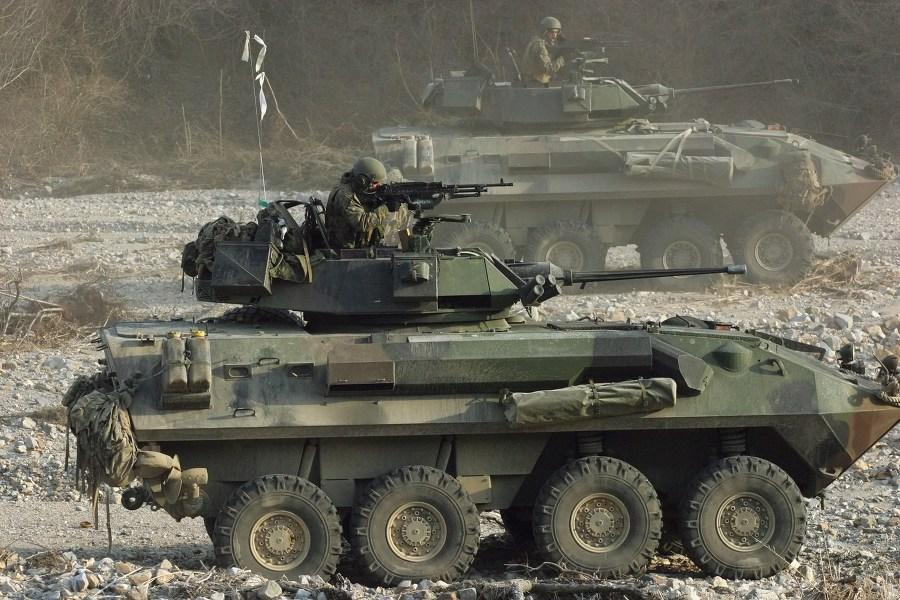MIL_IFV: (70, 211, 900, 589), (346, 36, 888, 284)
